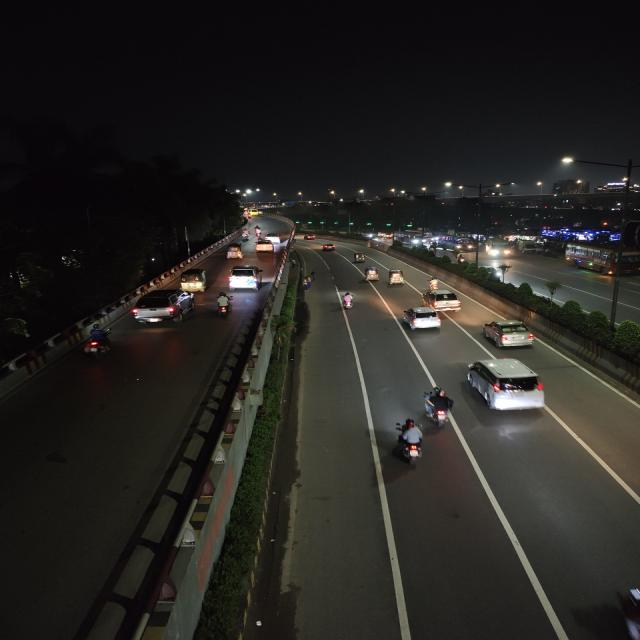bus: (567, 242, 634, 280), (440, 235, 475, 252), (486, 238, 513, 260), (397, 230, 424, 247)
car: (468, 358, 545, 413), (131, 290, 200, 328), (477, 317, 536, 350), (395, 303, 435, 332), (419, 290, 466, 314), (228, 265, 264, 292), (255, 240, 274, 254), (266, 231, 283, 246), (320, 242, 338, 254), (304, 234, 315, 240)
cng: (178, 267, 212, 296), (384, 266, 406, 286), (224, 243, 244, 260), (362, 265, 380, 282), (352, 251, 370, 264)
motorcycle: (416, 382, 459, 434), (388, 419, 426, 468), (84, 320, 113, 362), (213, 292, 239, 320), (341, 288, 359, 318), (426, 276, 439, 292), (254, 225, 263, 238), (456, 254, 466, 263)
pedestrian: (300, 278, 311, 292), (310, 268, 318, 282), (306, 274, 313, 286)
